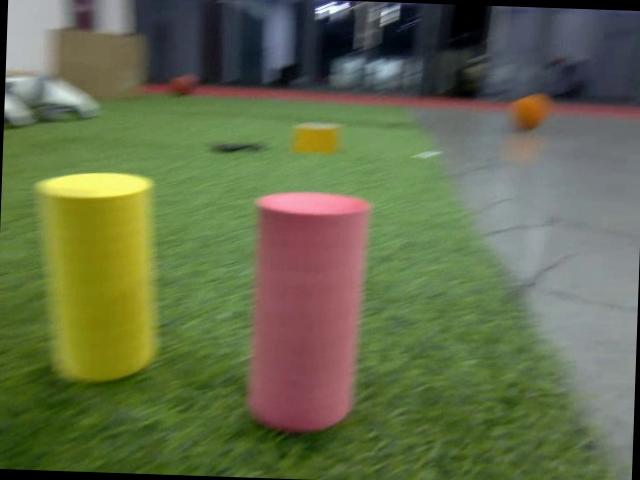red_cylinder: (246, 188, 368, 438)
yellow_cylinder: (23, 166, 164, 388)
